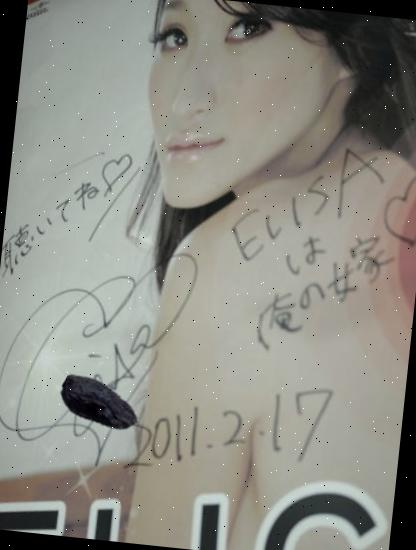Dates: (53, 360, 145, 452)
